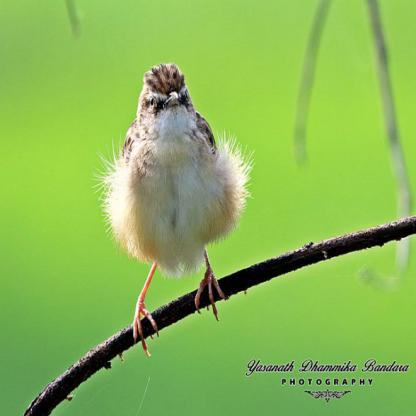Burung: (103, 62, 251, 357)
